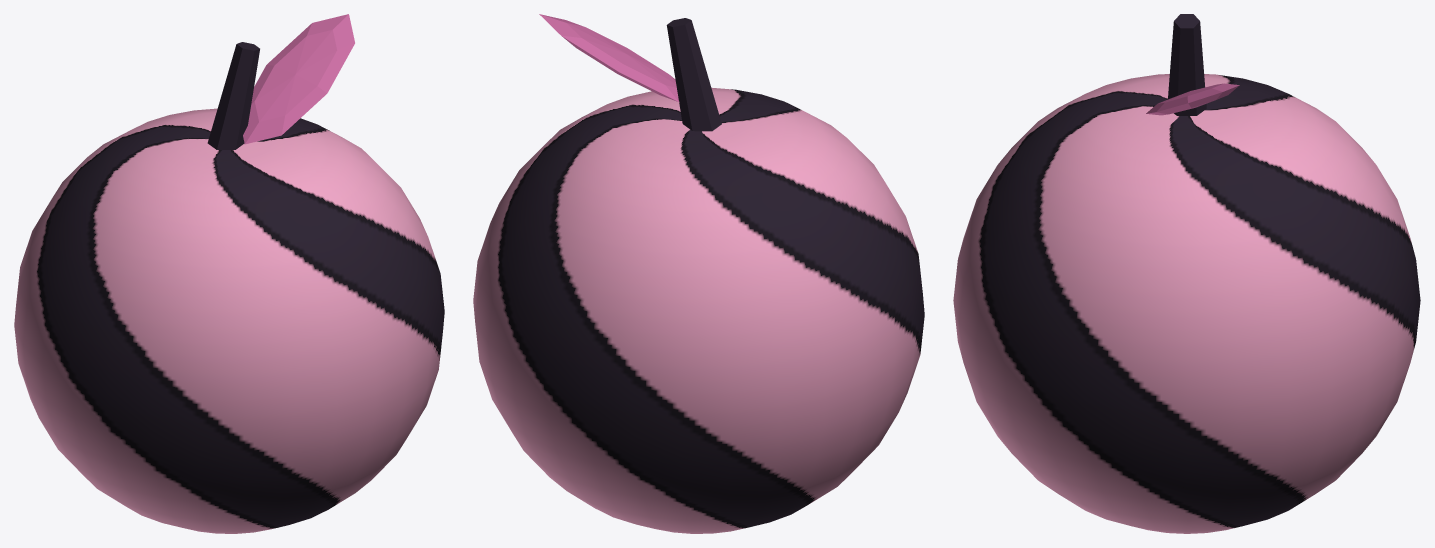
Rendered from Fruit_HoroHoro.fbx.
3 views of the same model, side by side, from view 1: azimuth 30°, elevation 25°; view 2: azimuth 150°, elevation 25°; view 3: azimuth 270°, elevation 25° (orthographic). The views are drawn at different scales.
Visible parts, largest first — view 1: Fruit_HoroHoro; view 2: Fruit_HoroHoro; view 3: Fruit_HoroHoro.
Boxes of the visible parts, box(x1,y1,x2,y2) form: Fruit_HoroHoro: box(14, 14, 444, 533); Fruit_HoroHoro: box(473, 14, 924, 533); Fruit_HoroHoro: box(953, 14, 1420, 533).
Size of the model in its own units: 1.6 by 1.9 by 1.6.
1 material, 1 textured.
